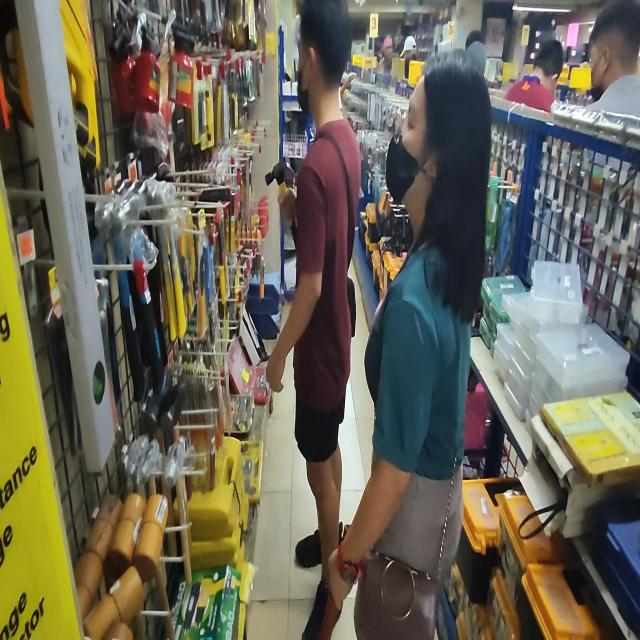hammer: (265, 162, 297, 248)
